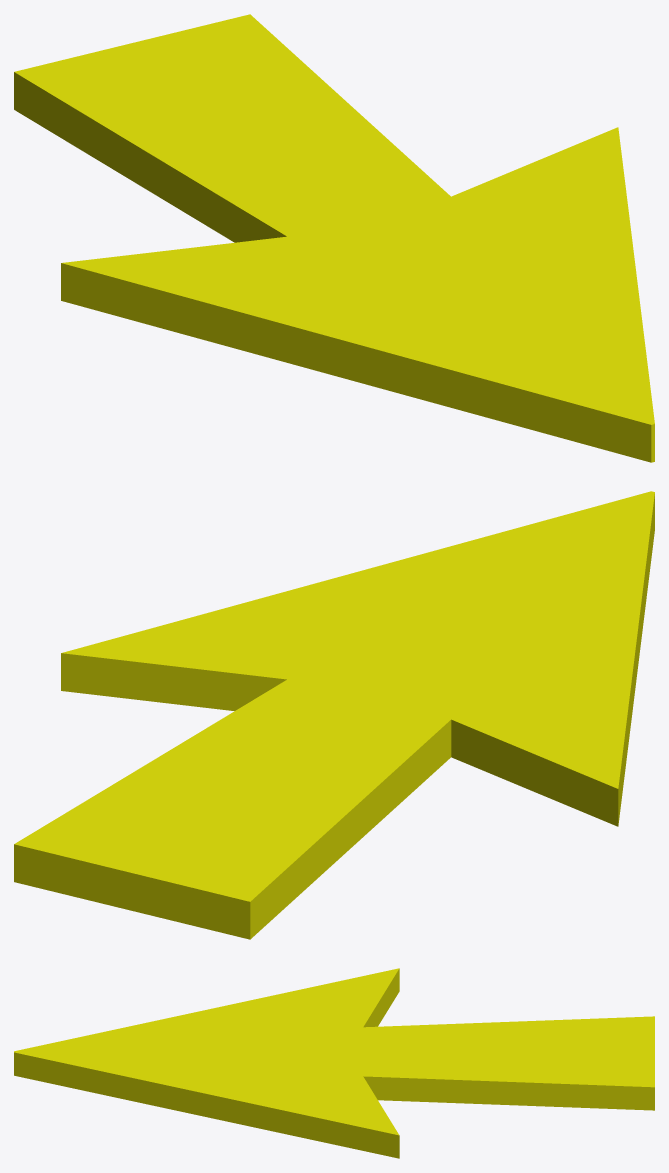
File: Arrow.fbx
3 views of the same model, one above another, from view 1: azimuth 30°, elevation 25°; view 2: azimuth 150°, elevation 25°; view 3: azimuth 270°, elevation 25° (orthographic). The views are drawn at different scales.
Parts seen in each view (by area): view 1: Arrow; view 2: Arrow; view 3: Arrow.
Part boxes in pixels (bbox=[...]): Arrow: bbox=[14, 14, 654, 462]; Arrow: bbox=[14, 491, 654, 939]; Arrow: bbox=[14, 968, 654, 1158].
Size of the model in its own units: 7.24 by 0.4693 by 11.72.
